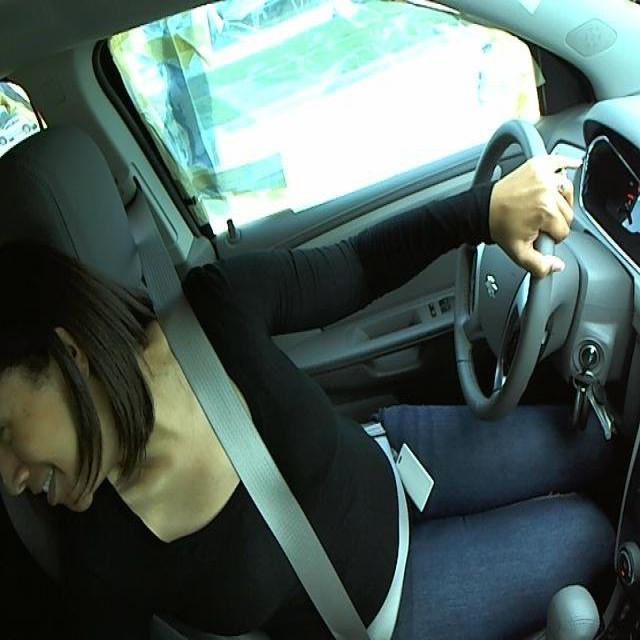seatbelt: (153, 317, 405, 639)
